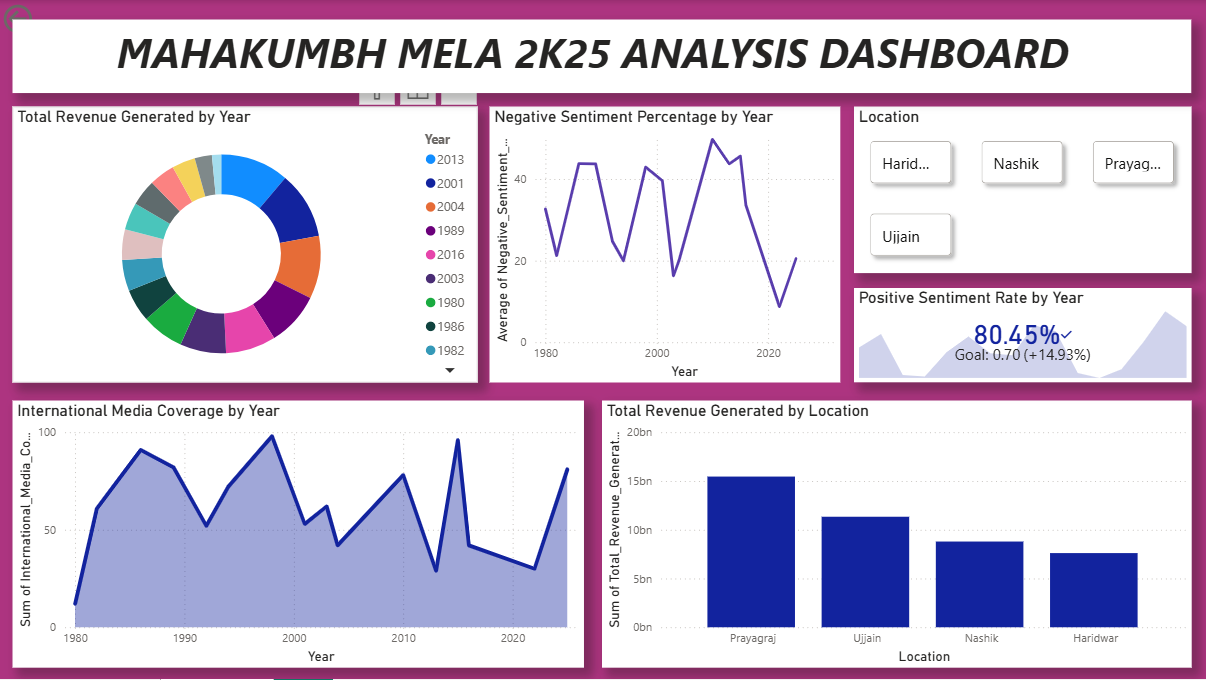

Layout of this report page (visuals, bound fields, positions):
{"tool":"powerbi","page":{"name":"Page 1","canvas":[1280,720],"ordinal":0},"visuals":[{"type":"donutChart","title":"Total Revenue Generated by Year","fields":{"Y":["Sum(Tourism_Data.Total_Revenue_Generated)"],"Category":["Environmental_Impact.Year"]},"box":[14.3,112.9,493.1,292.7],"z":0},{"type":"areaChart","title":"International Media Coverage by Year","fields":{"Category":["Global_Attention.Year"],"Y":["Sum(Global_Attention.International_Media_Coverage)"]},"box":[14.3,424.7,606,283.1],"z":1000},{"type":"columnChart","title":"Total Revenue Generated by Location","fields":{"Category":["Security_Infra.Location"],"Y":["Sum(Tourism_Data.Total_Revenue_Generated)"]},"box":[639.4,424.7,625.1,283.1],"z":2000},{"type":"lineChart","title":"Negative Sentiment Percentage by Year","fields":{"Category":["Public_Sentiment.Year"],"Y":["Avg(Public_Sentiment.Negative_Sentiment_Percentage)"]},"box":[520.1,112.9,372.2,292.7],"z":3000},{"type":"advancedSlicerVisual","fields":{"Values":["Public_Sentiment.Location"]},"box":[906.6,112.9,357.9,176.6],"z":4000},{"type":"actionButton","box":[0,0,100,40],"z":5000},{"type":"kpi","title":"Positive Sentiment Rate by Year","fields":{"TrendLine":["Public_Sentiment.Year"],"Indicator":["Public_Sentiment.Positive_Sentiment_Rate"],"Goal":["Public_Sentiment.Sentiment_Target"]},"box":[906.6,305.4,357.9,100.2],"z":6000},{"type":"textbox","box":[14.3,20.7,1250.2,77.9],"z":7000}]}

Visuals, with their boxes in screenshot pixels (x1, y1, x2, y2), scaled from the page's 1280x720 canvas onto the 1206x680 screenshot:
"Total Revenue Generated by Year" donutChart: <bbox>13, 107, 478, 383</bbox>
"International Media Coverage by Year" areaChart: <bbox>13, 401, 584, 668</bbox>
"Total Revenue Generated by Location" columnChart: <bbox>602, 401, 1191, 668</bbox>
"Negative Sentiment Percentage by Year" lineChart: <bbox>490, 107, 841, 383</bbox>
advancedSlicerVisual - Public_Sentiment.Location: <bbox>854, 107, 1191, 273</bbox>
actionButton: <bbox>0, 0, 94, 38</bbox>
"Positive Sentiment Rate by Year" kpi: <bbox>854, 288, 1191, 383</bbox>
textbox: <bbox>13, 20, 1191, 93</bbox>
